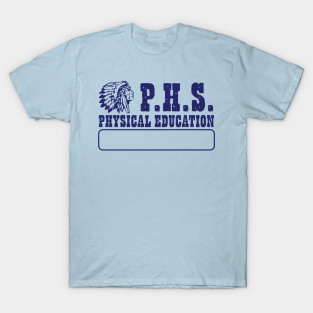design: (96, 78, 217, 152)
